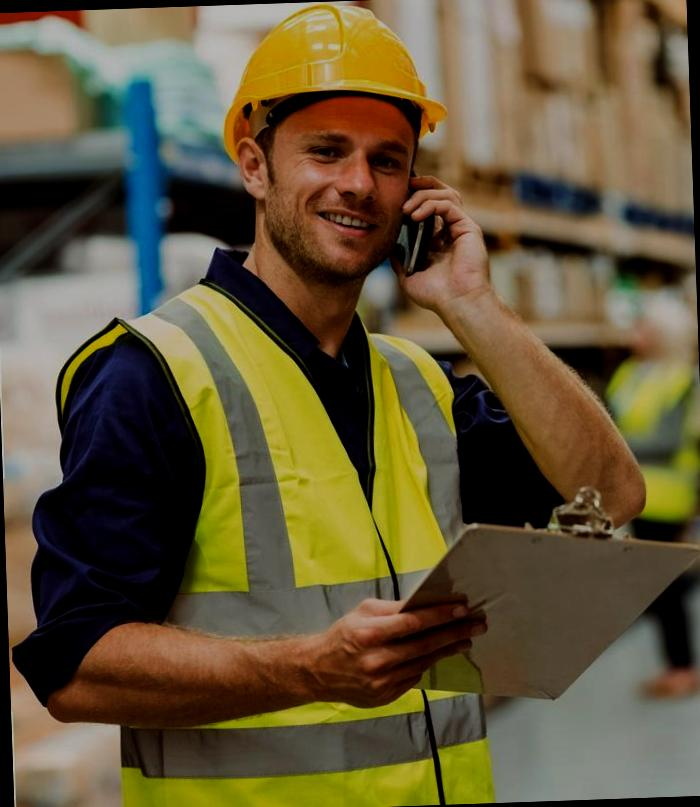helmet: (214, 1, 456, 136)
person: (4, 2, 514, 788)
